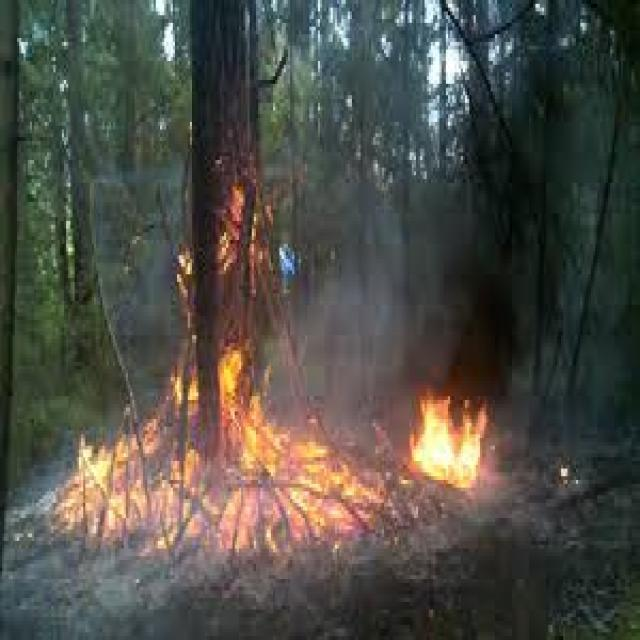Fire: (67, 341, 381, 552), (183, 165, 279, 354), (411, 401, 488, 492)
Smoke: (396, 35, 584, 323), (313, 165, 507, 381)
